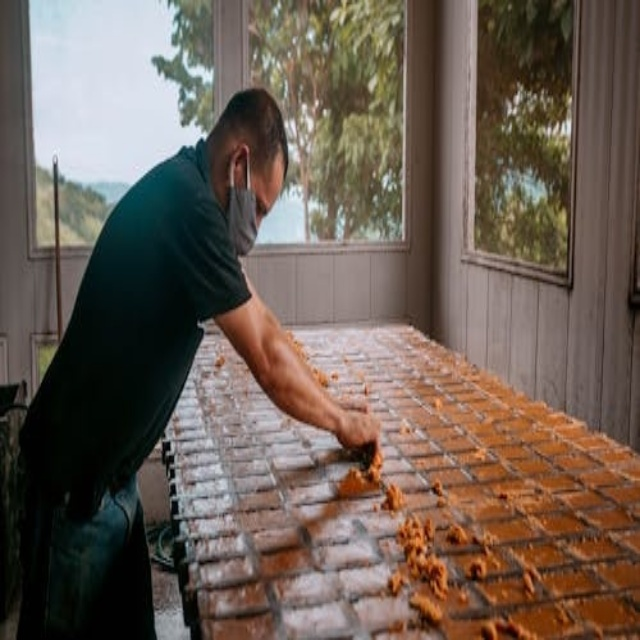Mascara: (225, 147, 258, 259)
Sin_gafas: (252, 171, 269, 232)
Sin_guantes: (338, 405, 383, 457)
